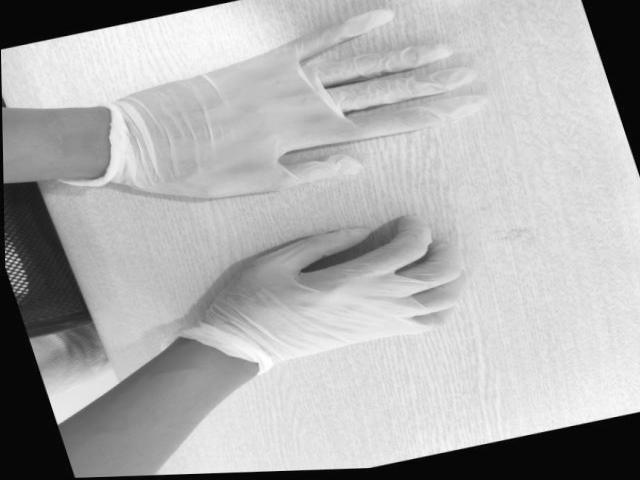gloved: (146, 12, 467, 204), (239, 218, 467, 353)
